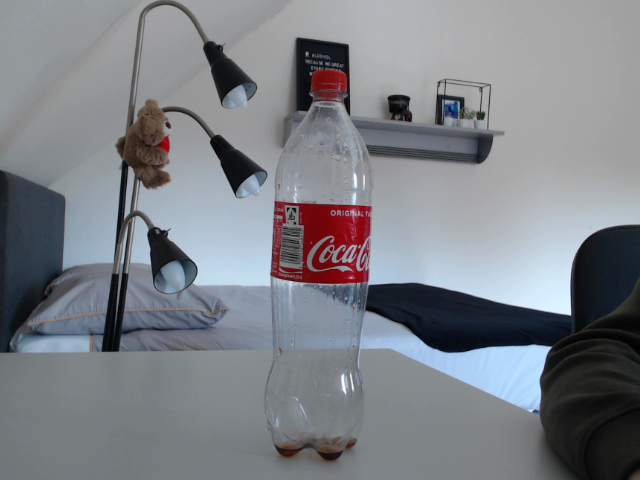bottle: (266, 69, 374, 462)
